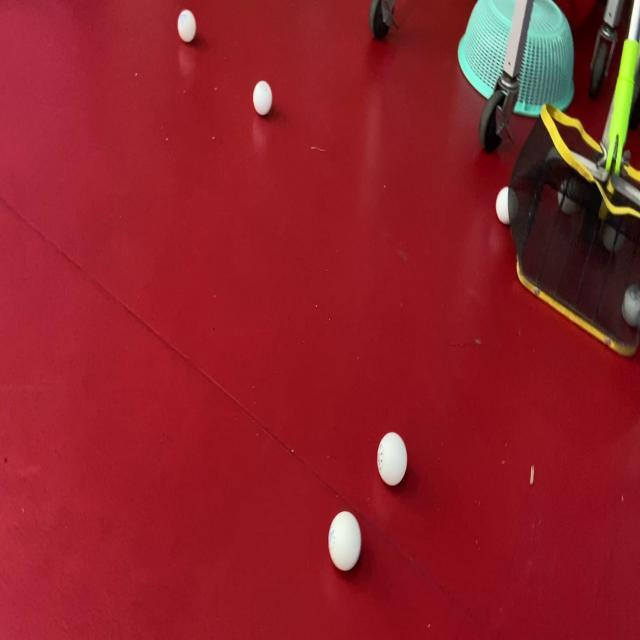ping-pong-ball: (328, 510, 362, 572), (376, 430, 408, 488), (494, 186, 518, 226), (252, 78, 273, 117), (176, 9, 196, 44)
